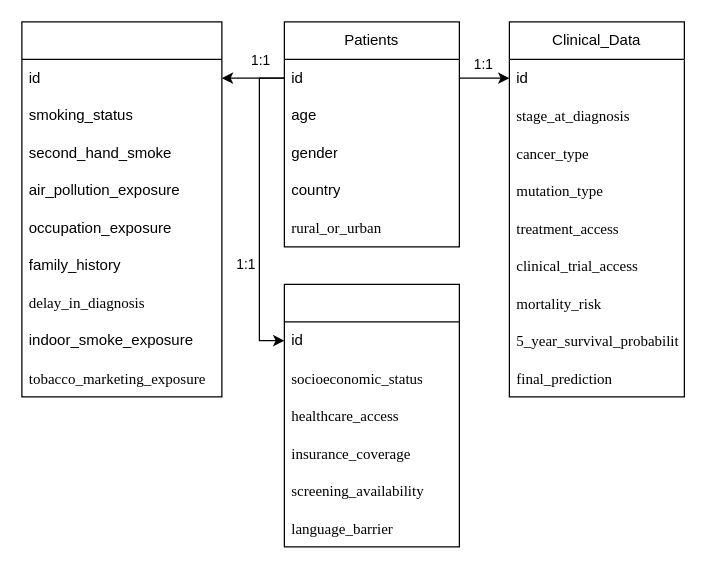
This 710x569 diagram has some shape labels left out. Each missing label, with the box of its shape:
Lifestyle_Quality: (283, 283, 459, 547)
Medical_History: (21, 21, 222, 397)
